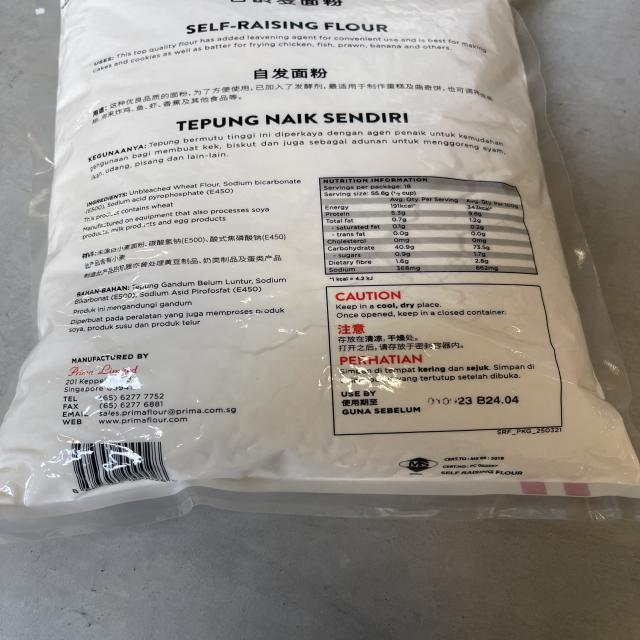object_name: (46, 7, 571, 503)
